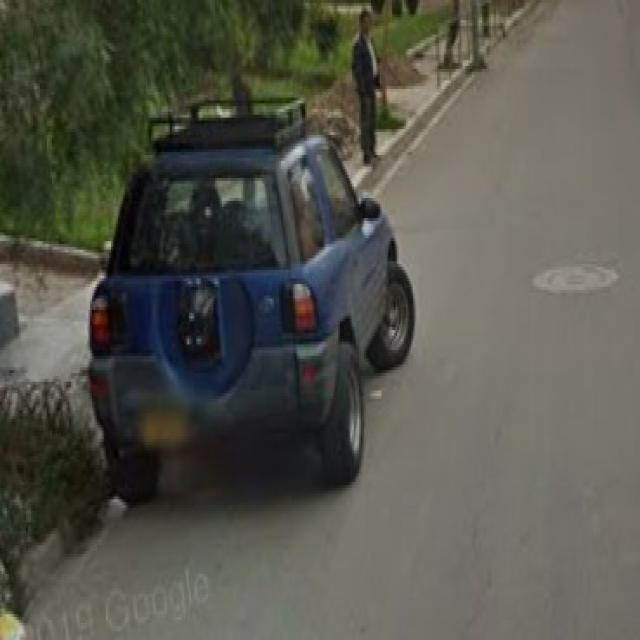cars: (88, 113, 413, 500)
